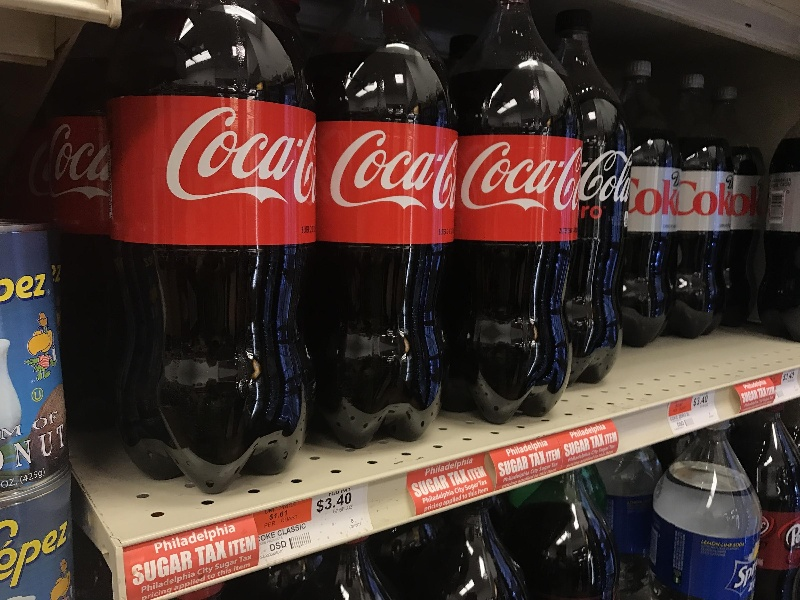Plastic bottle: (115, 6, 335, 476), (302, 10, 472, 435), (439, 3, 581, 416), (521, 15, 646, 401), (576, 27, 682, 337), (658, 48, 736, 348)
